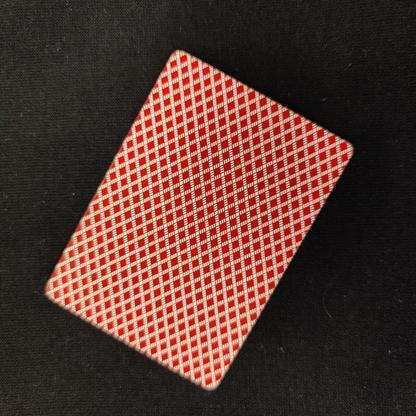card: (36, 37, 364, 406)
